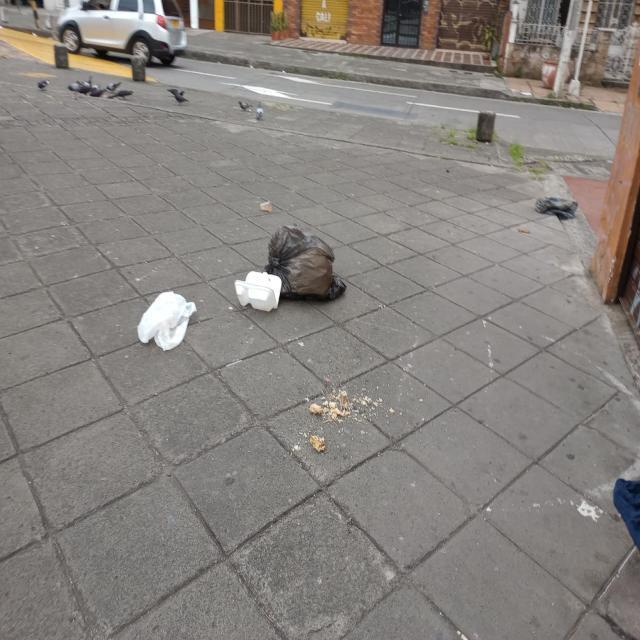Trashbag: (264, 220, 348, 303)
